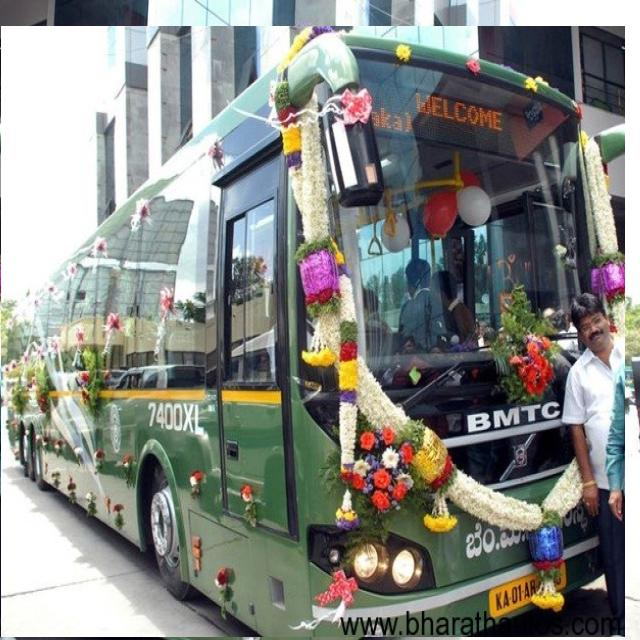bus: (0, 26, 625, 637)
